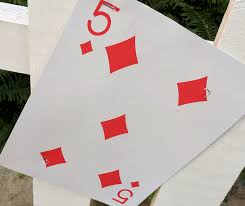five of diamonds: (2, 1, 242, 205)
